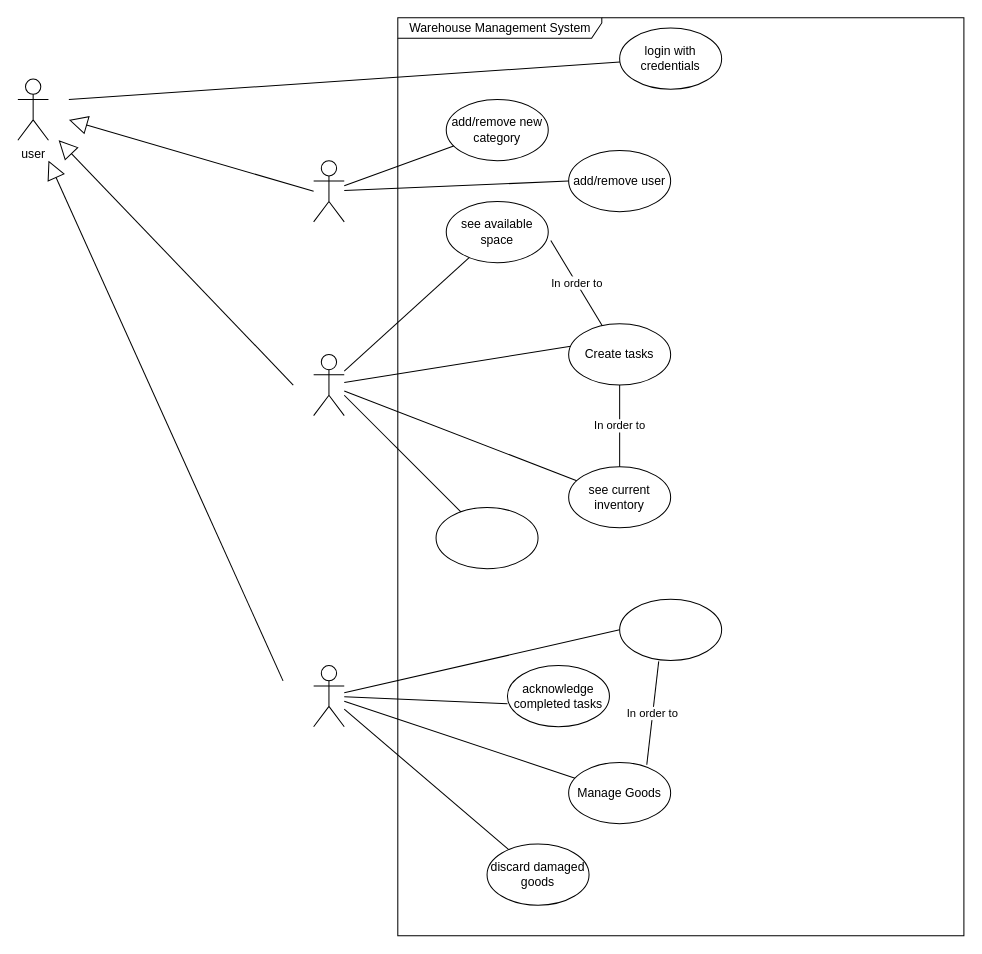
The diagram is 982 pixels wide and 954 high, and some of its shapes have lost their labels. The shapes that lost their labels are listed below. From the top down, each one's box as (x1, y1, x2, y2) in pixels, then its label:
(313, 160, 344, 222): Boss
(313, 353, 344, 416): Manager
(435, 506, 538, 569): create daily report
(619, 598, 722, 660): check work plan (tasks)
(313, 665, 344, 727): Employee
